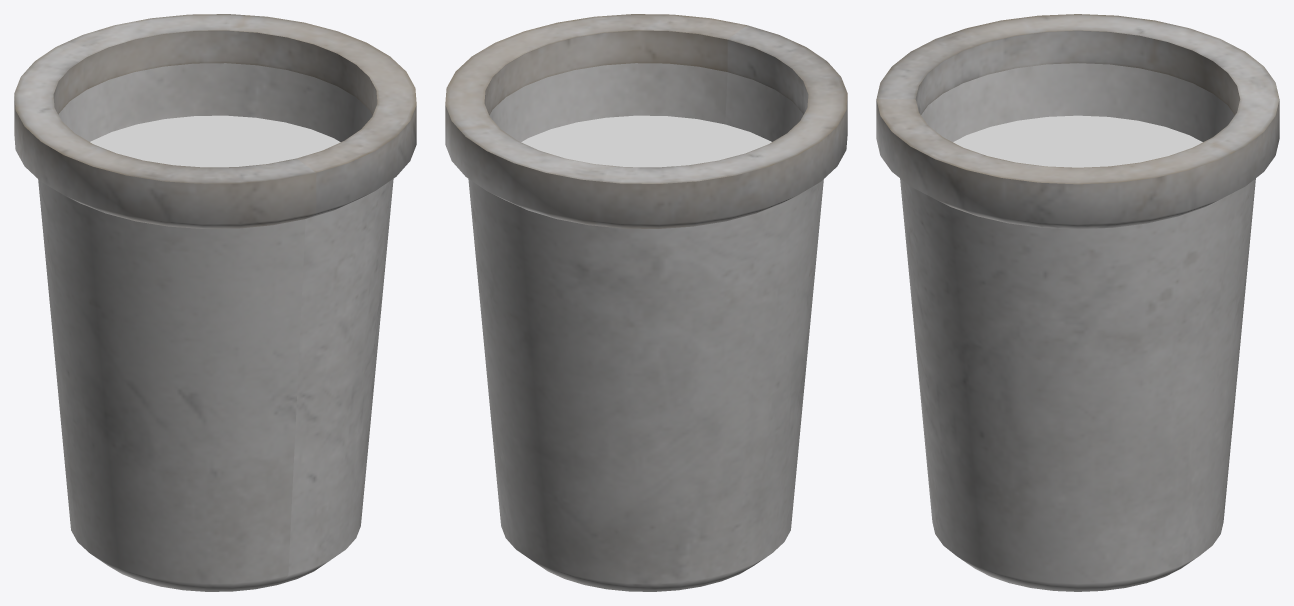
Rendered from Pot_C.fbx.
3 renders of one model, left to right at view 1: azimuth 30°, elevation 25°; view 2: azimuth 150°, elevation 25°; view 3: azimuth 270°, elevation 25°, orthographic.
Visible parts, largest first — view 1: Pot_C; view 2: Pot_C; view 3: Pot_C.
Boxes of the visible parts, box(x1,y1,x2,y2) form: Pot_C: box(14, 14, 416, 591); Pot_C: box(445, 14, 847, 591); Pot_C: box(876, 14, 1279, 591).
Size of the model in its own units: 22.23 by 26.8 by 22.23.
